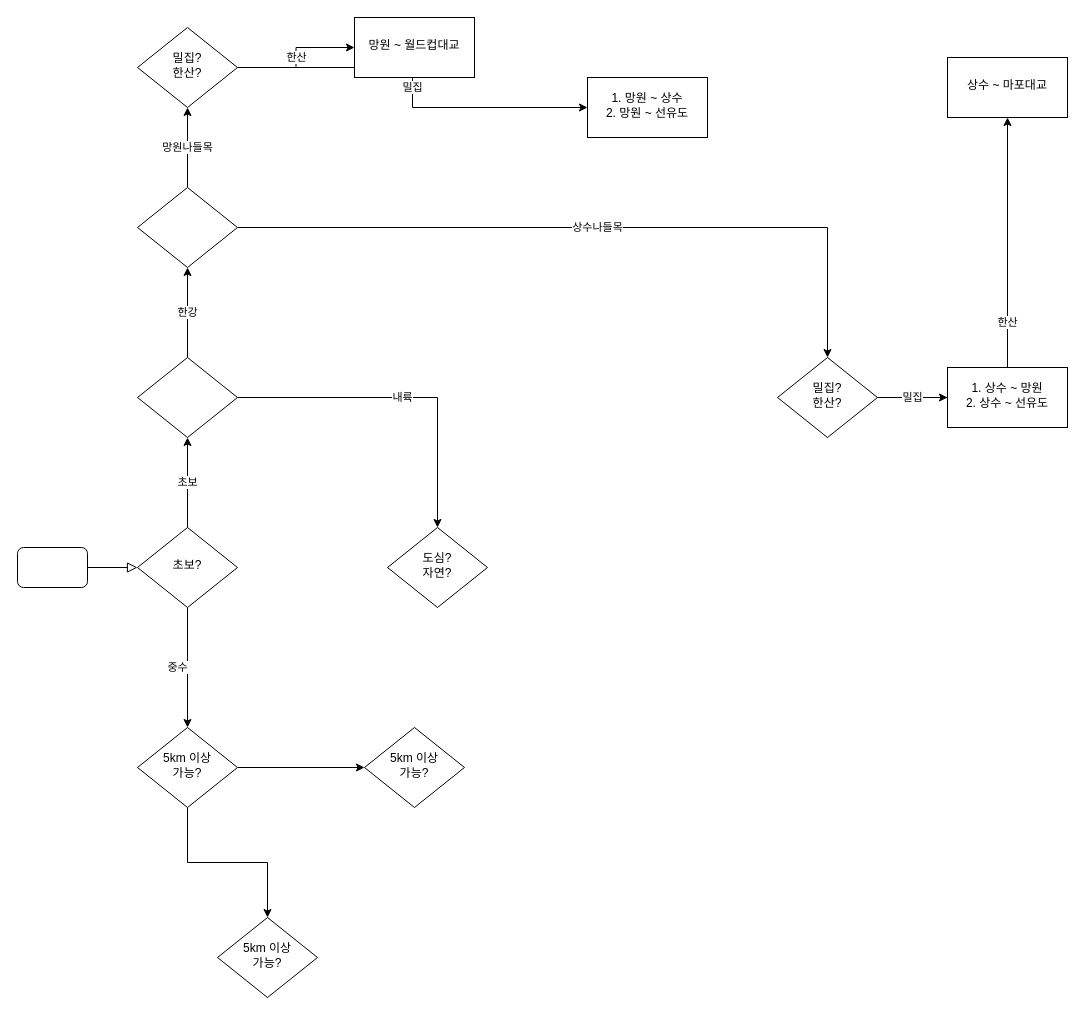
The diagram is 1085 pixels wide and 1015 high, and some of its shapes have lost their labels. The box of each missing label's shape, as (x1, y1, x2, y2) in pixels:
망원나들목? 상수나들목?: (136, 186, 238, 268)
시작: (16, 546, 88, 588)
한강go?: (136, 356, 238, 438)
